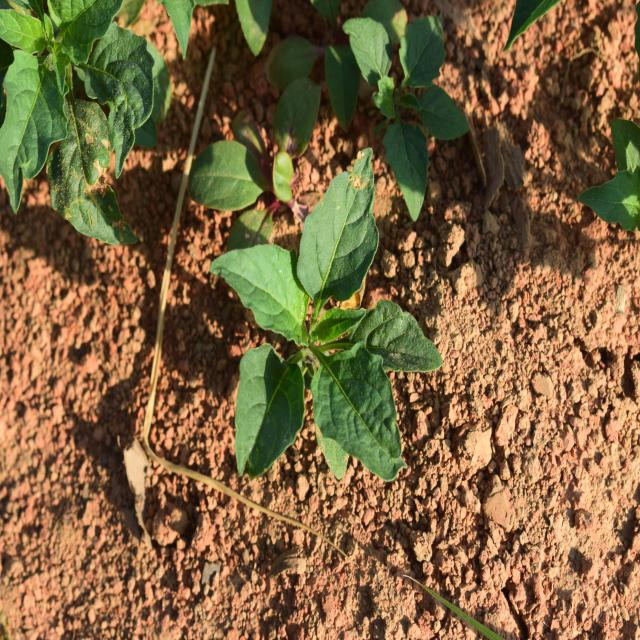Black_nightshade: (222, 169, 419, 496), (0, 9, 151, 220)
